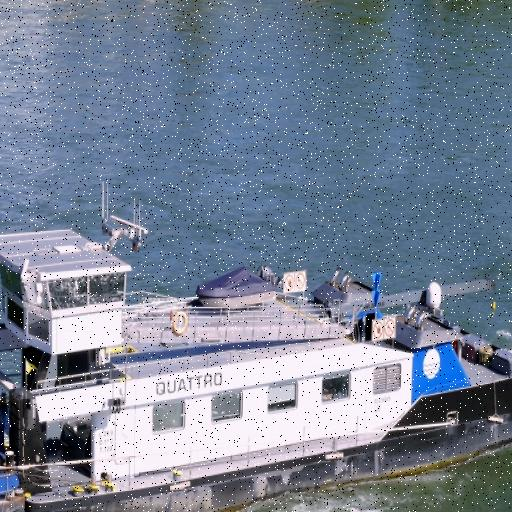tugboat: (1, 201, 512, 512)
